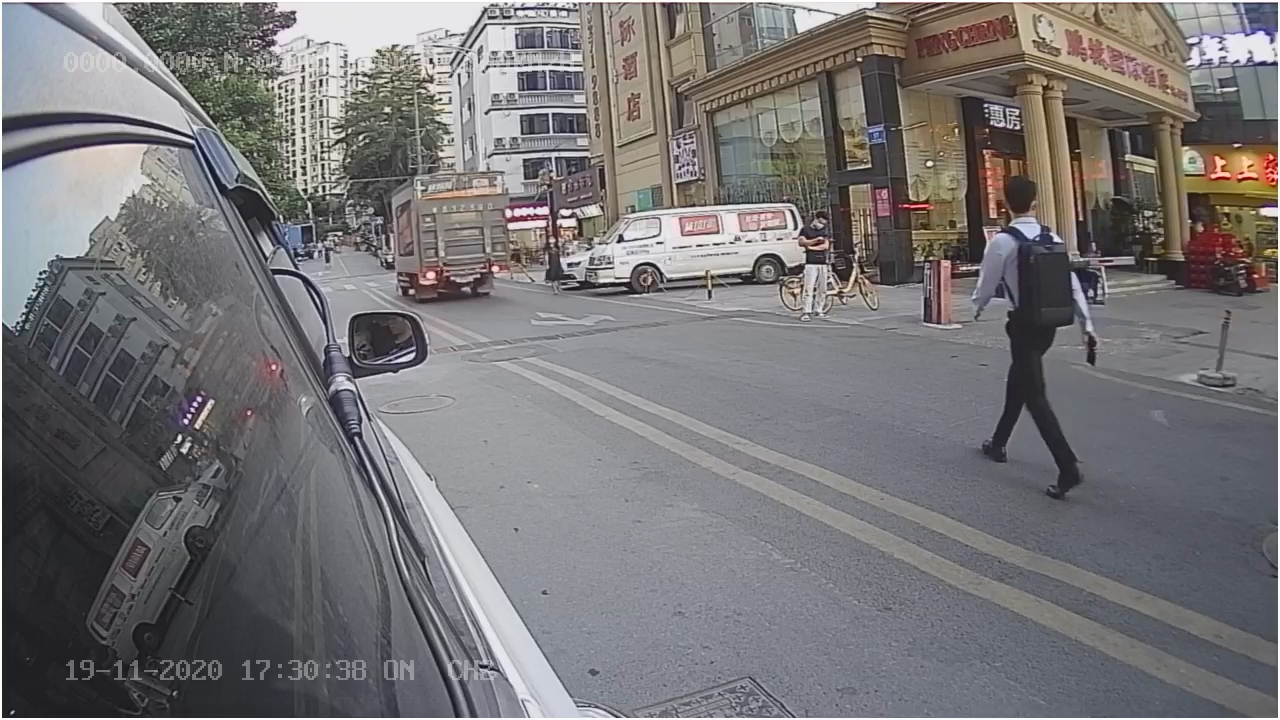person: (966, 171, 1096, 494)
